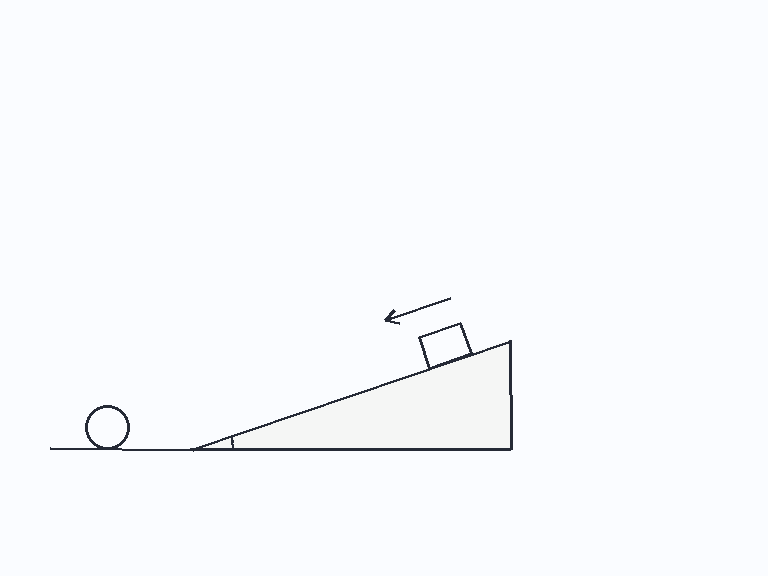ball: (83, 403, 131, 451)
block: (417, 321, 473, 370)
ramp: (191, 338, 513, 451)
